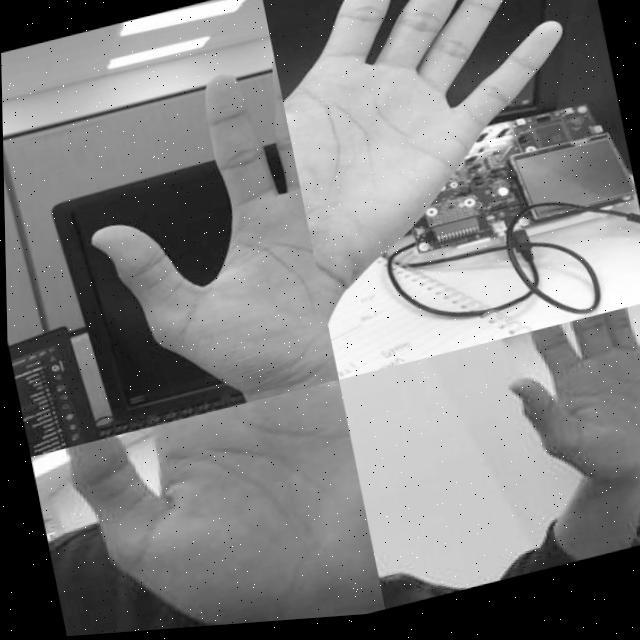no-gloves: (56, 46, 337, 438), (258, 0, 594, 269), (45, 380, 381, 638), (490, 309, 640, 515)
